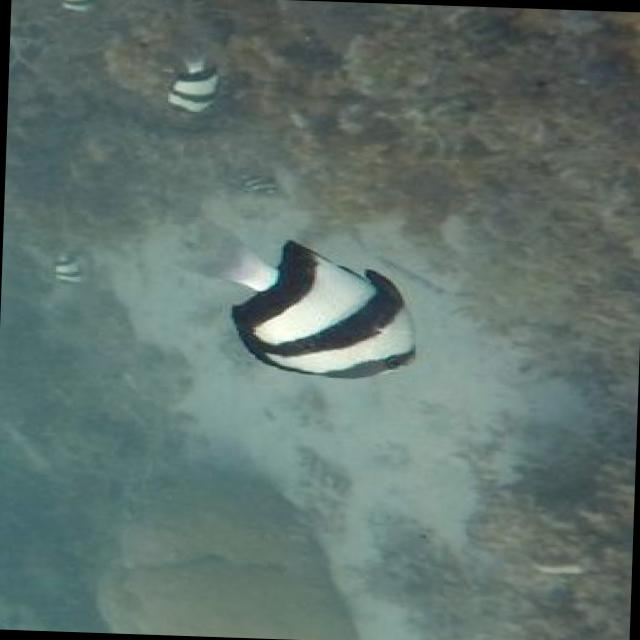ThreeStripedDamselfish: (174, 218, 415, 379)
